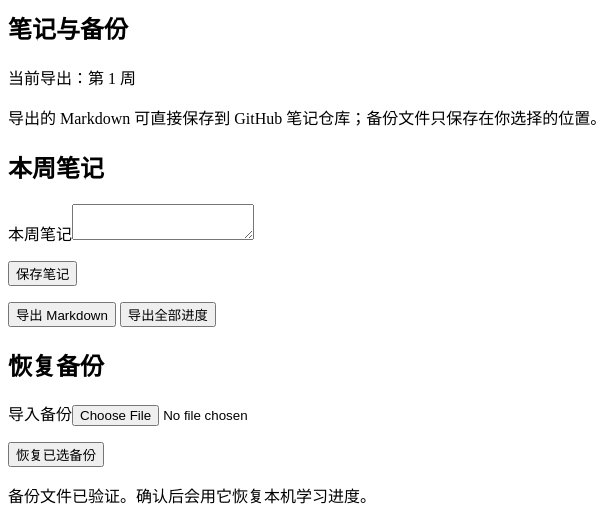
NotesSettingsPage › shows an unknown-commit warning without offering an immediate duplicate restore
Earlier steps of the test are not shown.
expect the message "备份文件已验证。确认后会用它恢复本机学习进度。" is shown: met, box [8, 488, 376, 505]
Click the button "恢复已选备份" at {"x": 56, "y": 455}, box [8, 442, 104, 467]
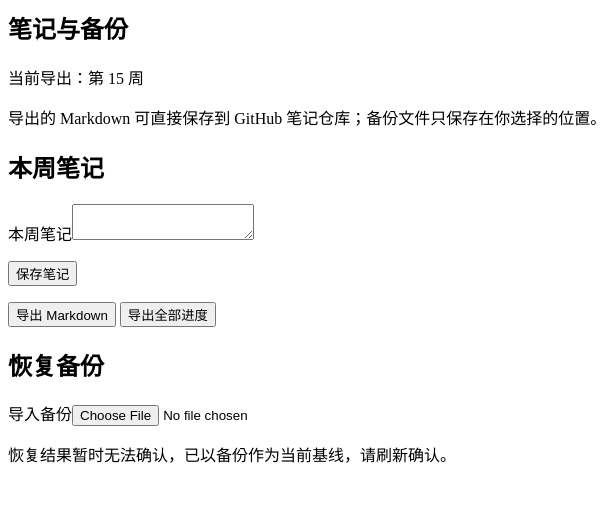
expect the message shows "恢复结果暂时无法确认，已以备份作为当前基线": met, box [8, 447, 456, 464]
expect the button "恢复已选备份" is gone: met
expect the text "当前导出：第 15 周" is shown: met, box [8, 70, 144, 87]
